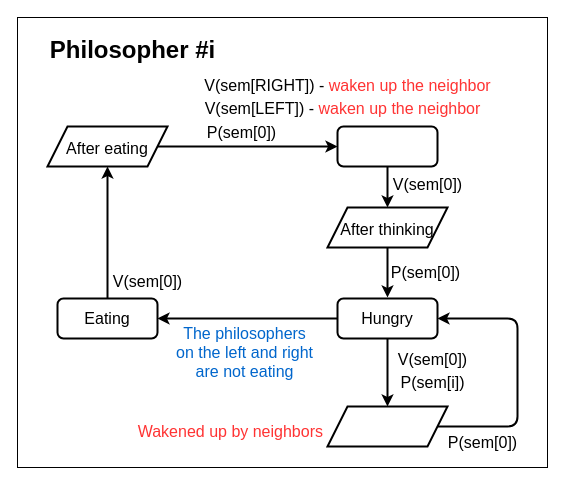
This 565x485 diagram has some shape labels left out. Each missing label, with the centre of its shape:
"Thinking" goes at pixel 387 146.
"Waiting" goes at pixel 387 426.
